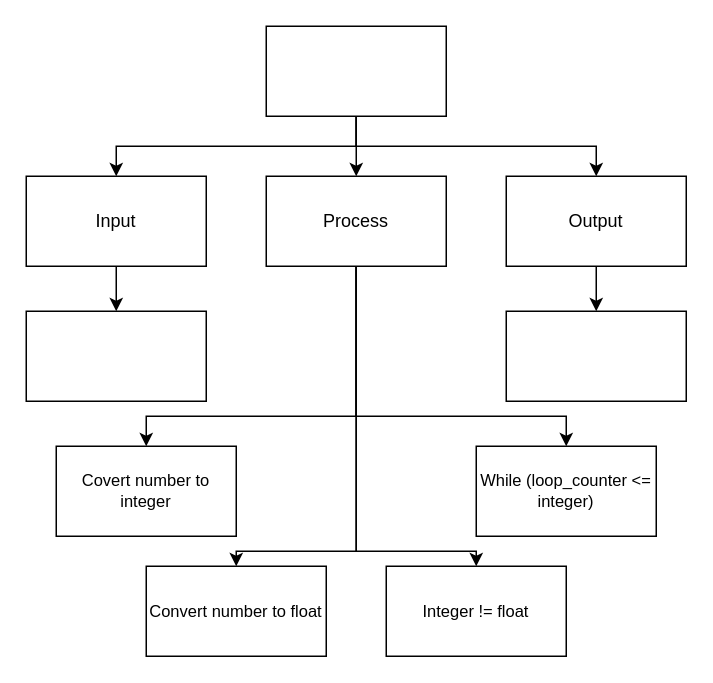
This 713x683 diagram has some shape labels left out. The centre of each missing label's shape, as x and y in pixels:
Get number: [115,355]
Print squares of numbers: [595,355]
Squares: [355,70]
